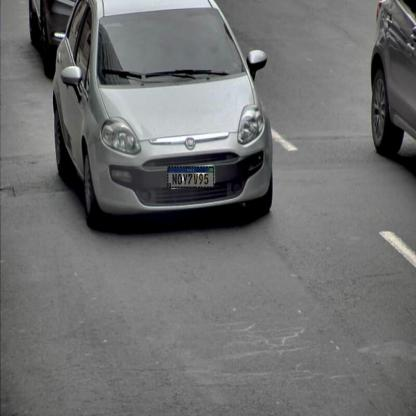PlacaM: (167, 166, 214, 188)
